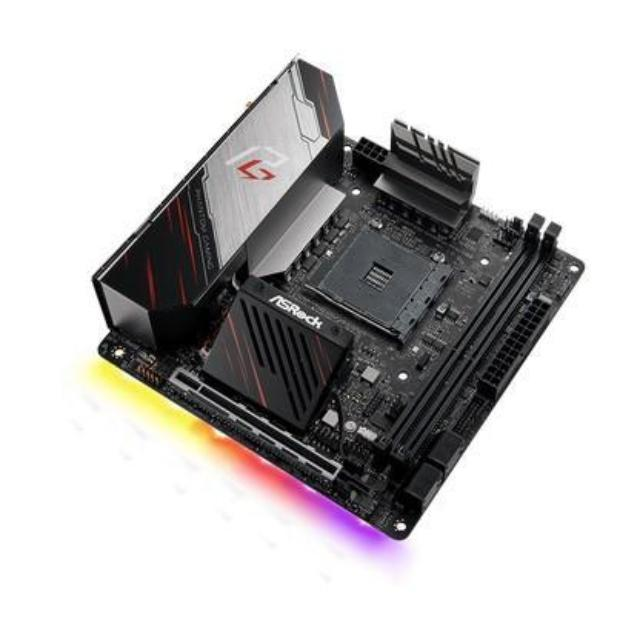Mainboard: (93, 54, 584, 552)
